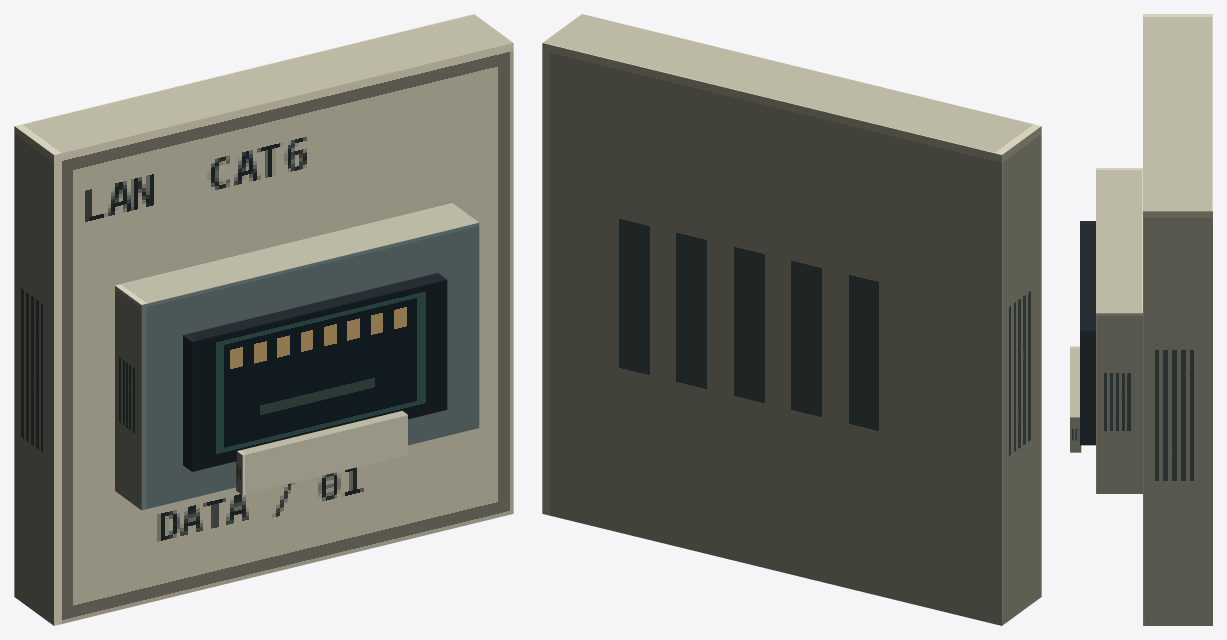
The model's file is toma_rj45.glb.
The picture shows the model from 3 angles, left to right: view 1: azimuth 30°, elevation 25°; view 2: azimuth 150°, elevation 25°; view 3: azimuth 270°, elevation 25°; orthographic projection. The views are drawn at different scales.
Visible parts, largest first — view 1: EQUIPO; view 2: EQUIPO; view 3: EQUIPO.
Boxes of the visible parts, x1,y1,x2,y2 form: EQUIPO: [14, 14, 513, 625]; EQUIPO: [542, 14, 1041, 625]; EQUIPO: [1070, 14, 1212, 625].
Size of the model in its own units: 0.2195 by 0.2149 by 0.0671.
1 material, 1 textured.
